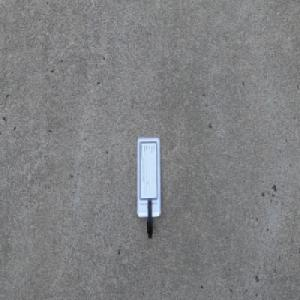LuggageTag: (136, 135, 162, 241)
